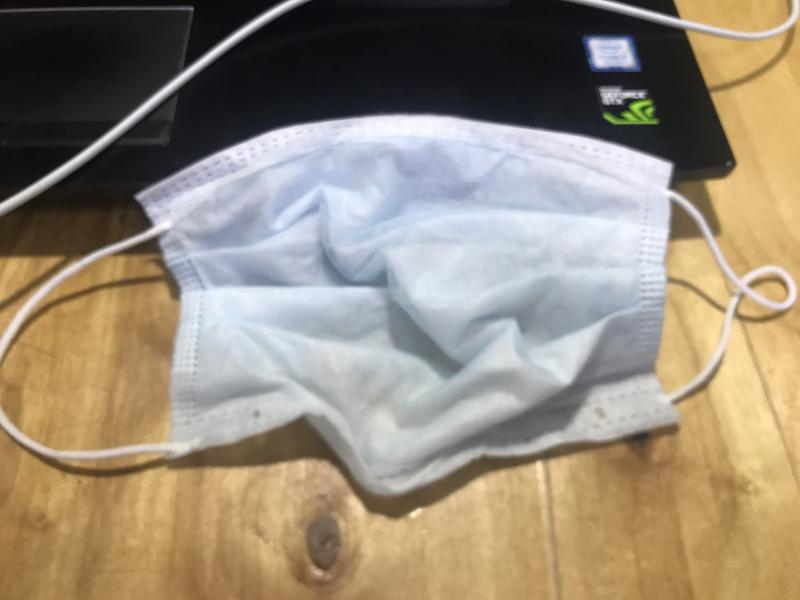medical_mask: (2, 113, 795, 492)
